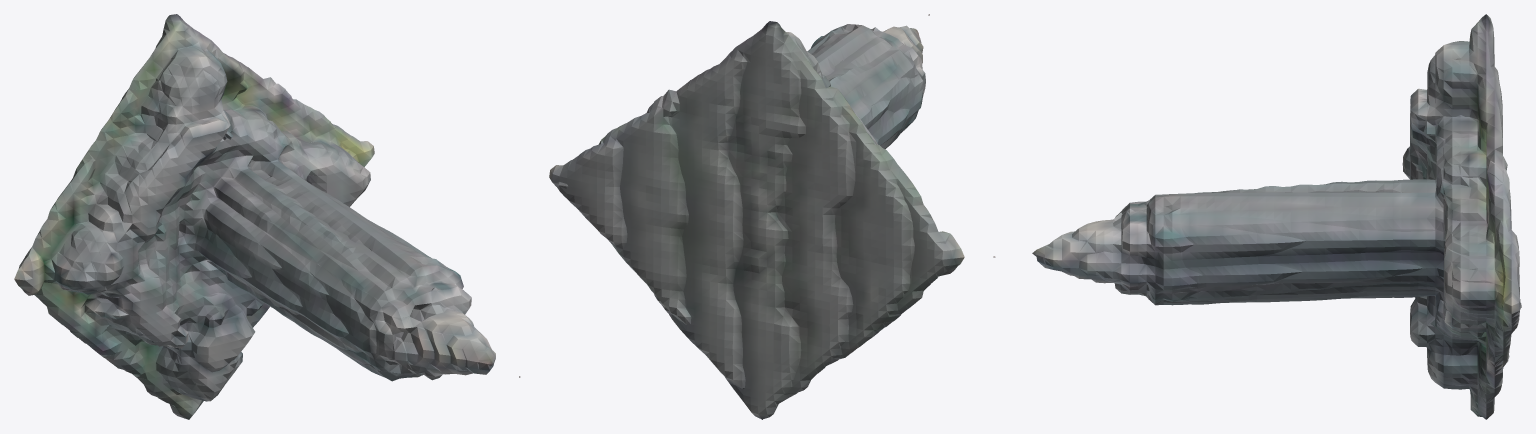
The picture shows the model from 3 angles, left to right: view 1: azimuth 30°, elevation 25°; view 2: azimuth 150°, elevation 25°; view 3: azimuth 270°, elevation 25°; orthographic projection. The views are drawn at different scales.
Visible parts, largest first — view 1: world; view 2: world; view 3: world.
Part boxes in pixels (<box>): world: <box>14,14,520,419</box>; world: <box>549,14,964,419</box>; world: <box>993,14,1521,419</box>.
Bounding box in the file's own units: 0.711 × 0.7077 × 0.8538.
